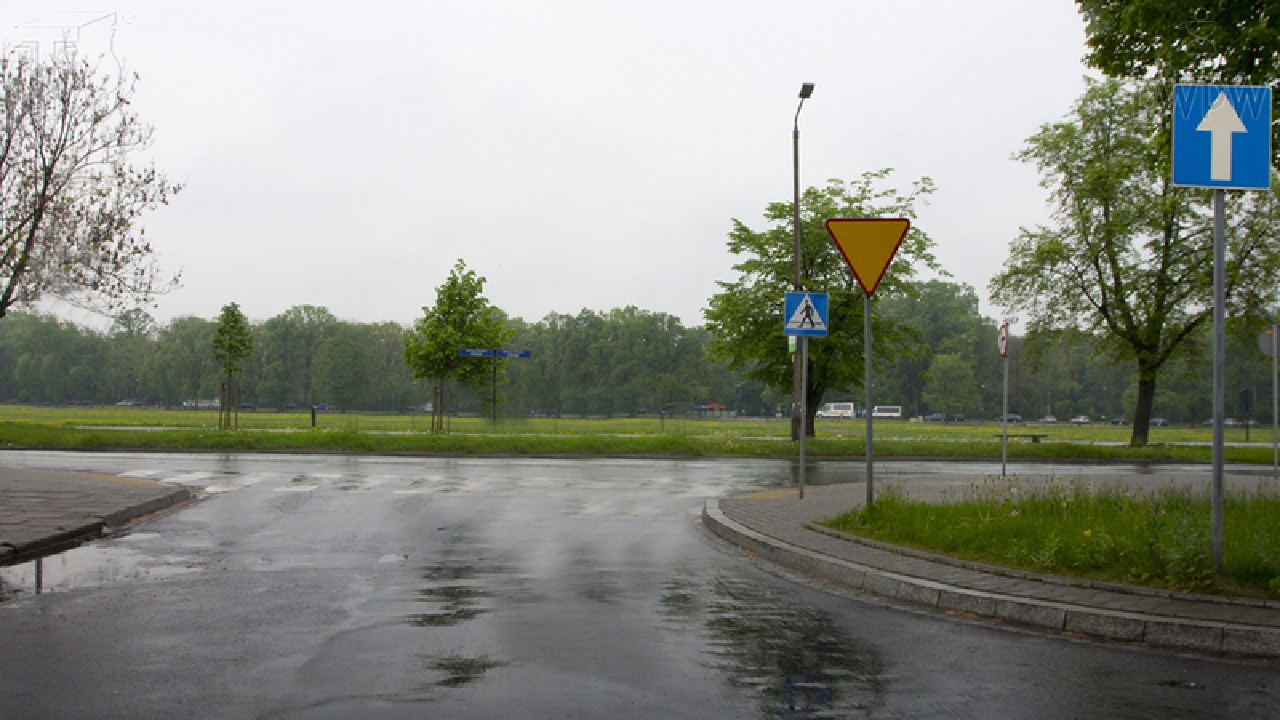A7: (825, 217, 911, 295)
D3: (1171, 83, 1273, 191)
D6: (785, 293, 829, 334)
